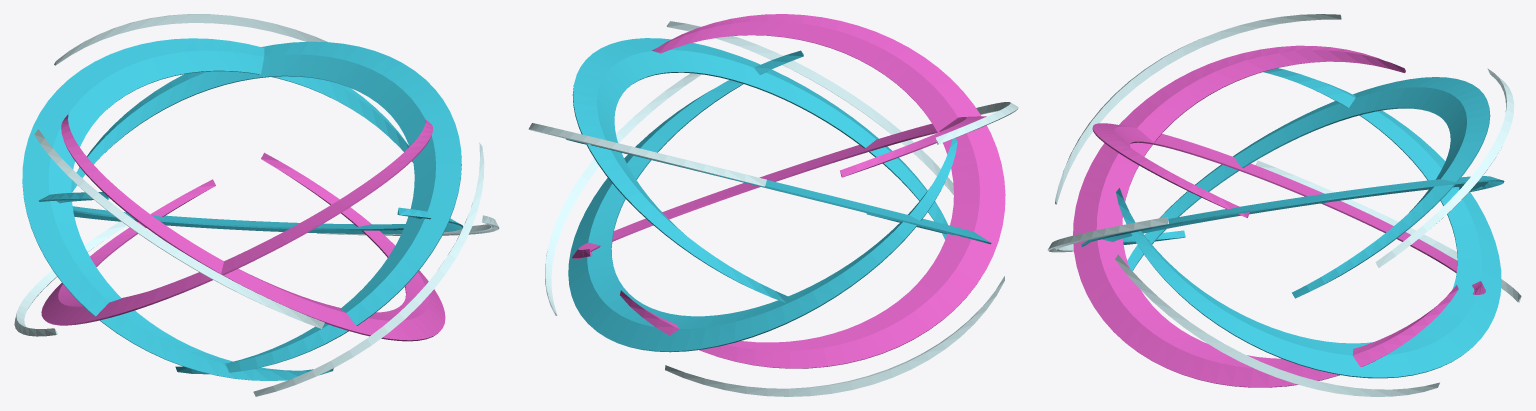
Rendered from VFX_65_GasBollaVorticosa.fbx.
3 views of the same model, side by side, from view 1: azimuth 30°, elevation 25°; view 2: azimuth 150°, elevation 25°; view 3: azimuth 270°, elevation 25° (orthographic). The views are drawn at different scales.
Visible parts, largest first — view 1: VFX_65_GasBollaVorticosa; view 2: VFX_65_GasBollaVorticosa; view 3: VFX_65_GasBollaVorticosa.
Boxes of the visible parts, x1,y1,x2,y2 form: VFX_65_GasBollaVorticosa: (14, 14, 499, 396); VFX_65_GasBollaVorticosa: (528, 14, 1018, 396); VFX_65_GasBollaVorticosa: (1047, 14, 1521, 396).
Bounding box in the file's own units: 263 × 134 × 261.
1 material, 1 textured.
